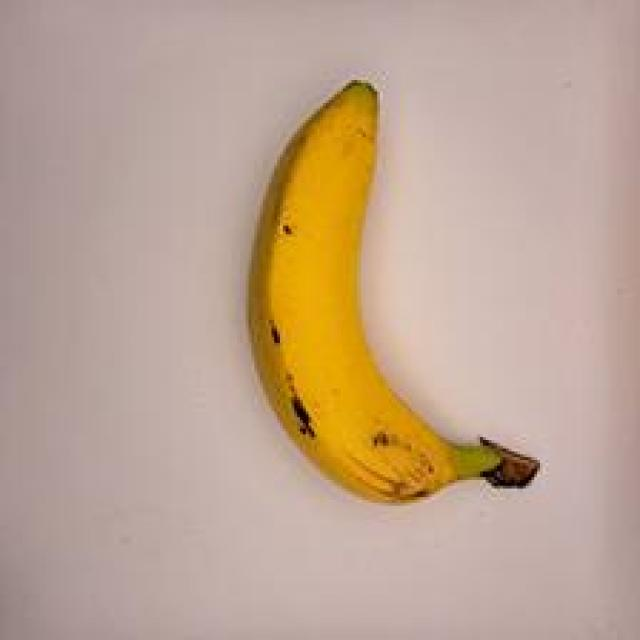ripe: (193, 75, 569, 528)
